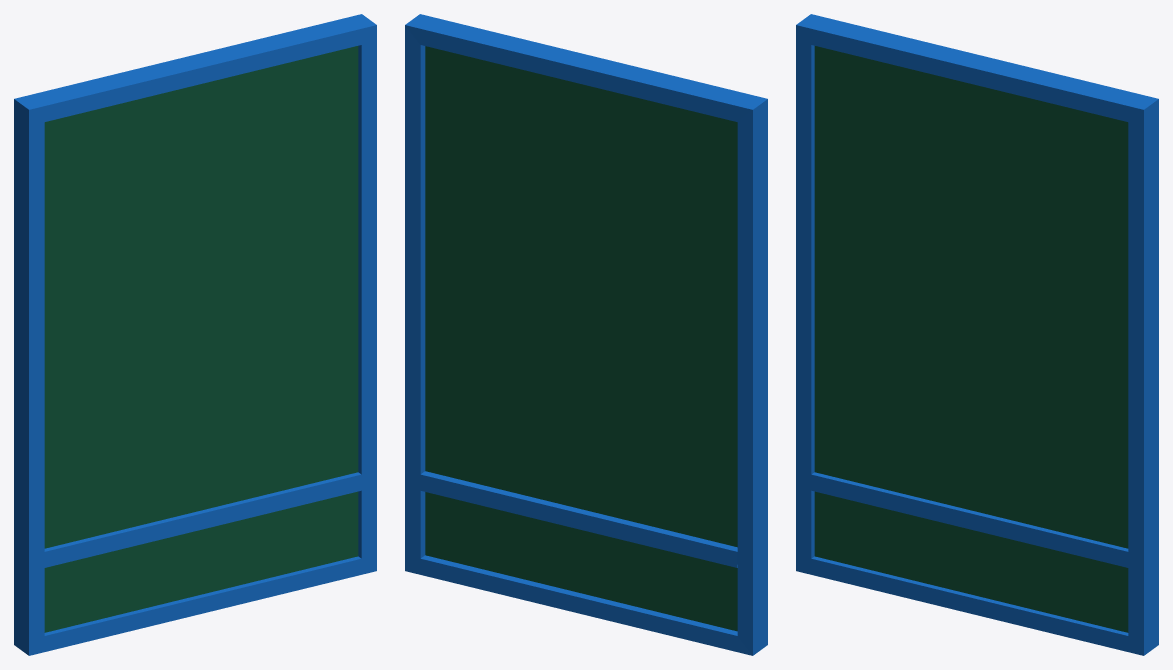
File: T_window.fbx
The picture shows the model from 3 angles, left to right: view 1: azimuth 30°, elevation 25°; view 2: azimuth 150°, elevation 25°; view 3: azimuth 330°, elevation 25°; orthographic projection.
Parts seen in each view (by area): view 1: window; view 2: window; view 3: window.
Part boxes in pixels (x1=…): window: x1=14, y1=14, x2=376, y2=655; window: x1=405, y1=14, x2=767, y2=655; window: x1=796, y1=14, x2=1158, y2=655.
Bounding box in the file's own units: 200 × 300 × 15.
